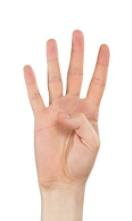right: (19, 29, 113, 186)
